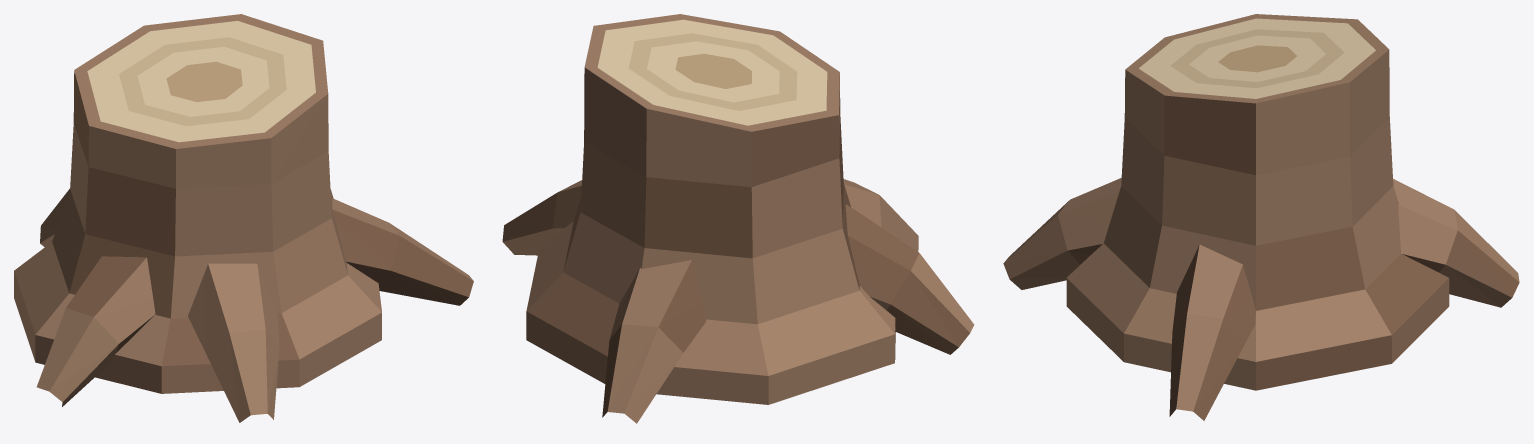
File: pine_stump.glb
3 views of the same model, side by side, from view 1: azimuth 30°, elevation 25°; view 2: azimuth 150°, elevation 25°; view 3: azimuth 270°, elevation 25° (orthographic). The views are drawn at different scales.
Visible parts, largest first — view 1: PineStump; view 2: PineStump; view 3: PineStump.
Boxes of the visible parts, x1,y1,x2,y2 form: PineStump: (14,14,473,422); PineStump: (502,14,974,423); PineStump: (1003,14,1519,420).
Size of the model in its own units: 0.8297 by 0.482 by 0.815.
